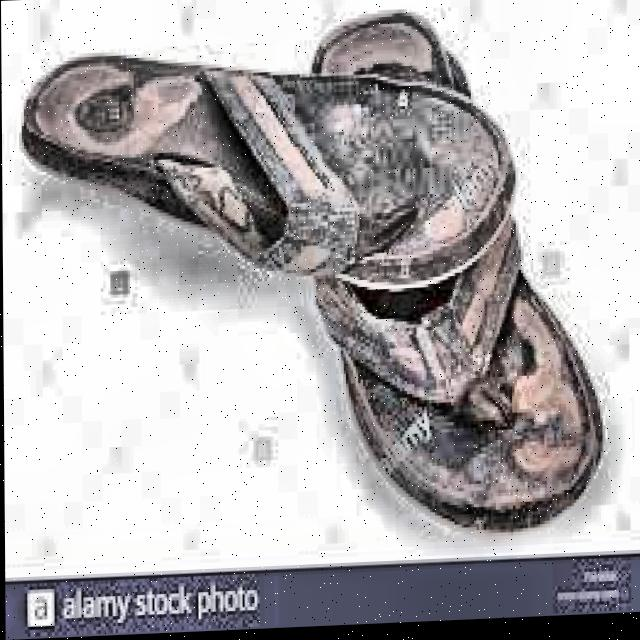shoes: (12, 0, 626, 574)
